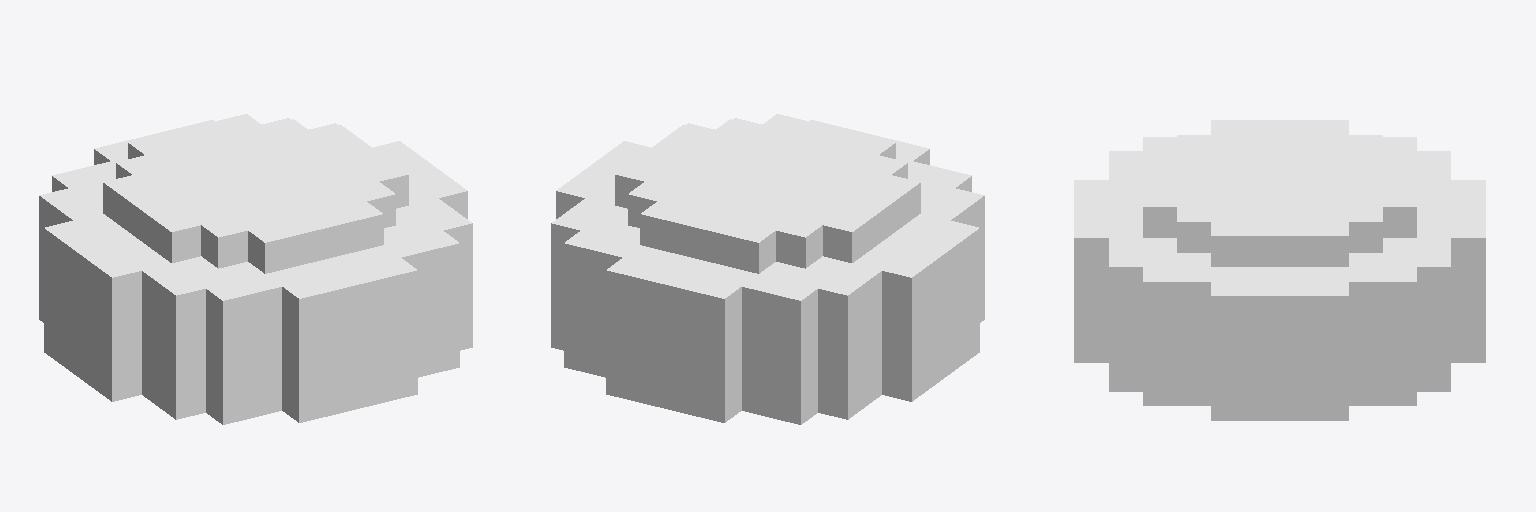
File: JumpButton.obj
The picture shows the model from 3 angles: view 1: azimuth 30°, elevation 25°; view 2: azimuth 150°, elevation 25°; view 3: azimuth 270°, elevation 25°; orthographic projection.
Visible parts, largest first — view 1: object 1; view 2: object 1; view 3: object 1.
Boxes of the visible parts, x1=… form: object 1: x1=39, y1=114, x2=472, y2=424; object 1: x1=551, y1=114, x2=984, y2=424; object 1: x1=1074, y1=120, x2=1485, y2=420.
Size of the model in its own units: 1.2 by 0.5 by 1.2.